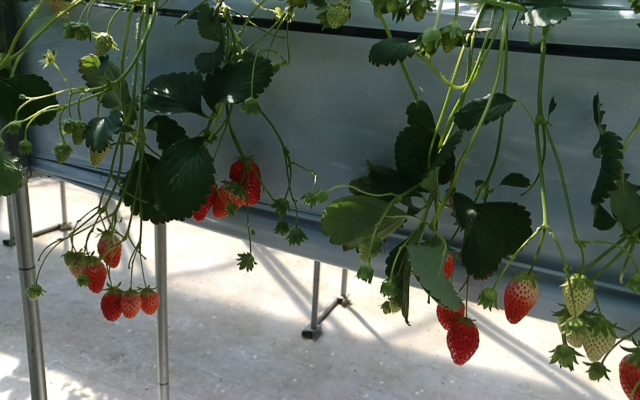GreenStrawberry: (578, 310, 615, 362), (562, 270, 594, 317), (322, 1, 353, 30), (86, 133, 110, 168), (562, 316, 587, 348), (440, 21, 463, 55), (63, 249, 87, 281), (68, 120, 86, 147)
MatureStrawberry: (503, 269, 540, 325), (227, 154, 262, 209), (446, 317, 481, 366), (614, 345, 640, 400), (212, 179, 245, 221), (434, 292, 467, 333), (432, 240, 458, 282), (97, 231, 124, 268), (83, 255, 108, 294), (100, 287, 125, 323), (120, 287, 141, 320), (139, 287, 160, 316)
